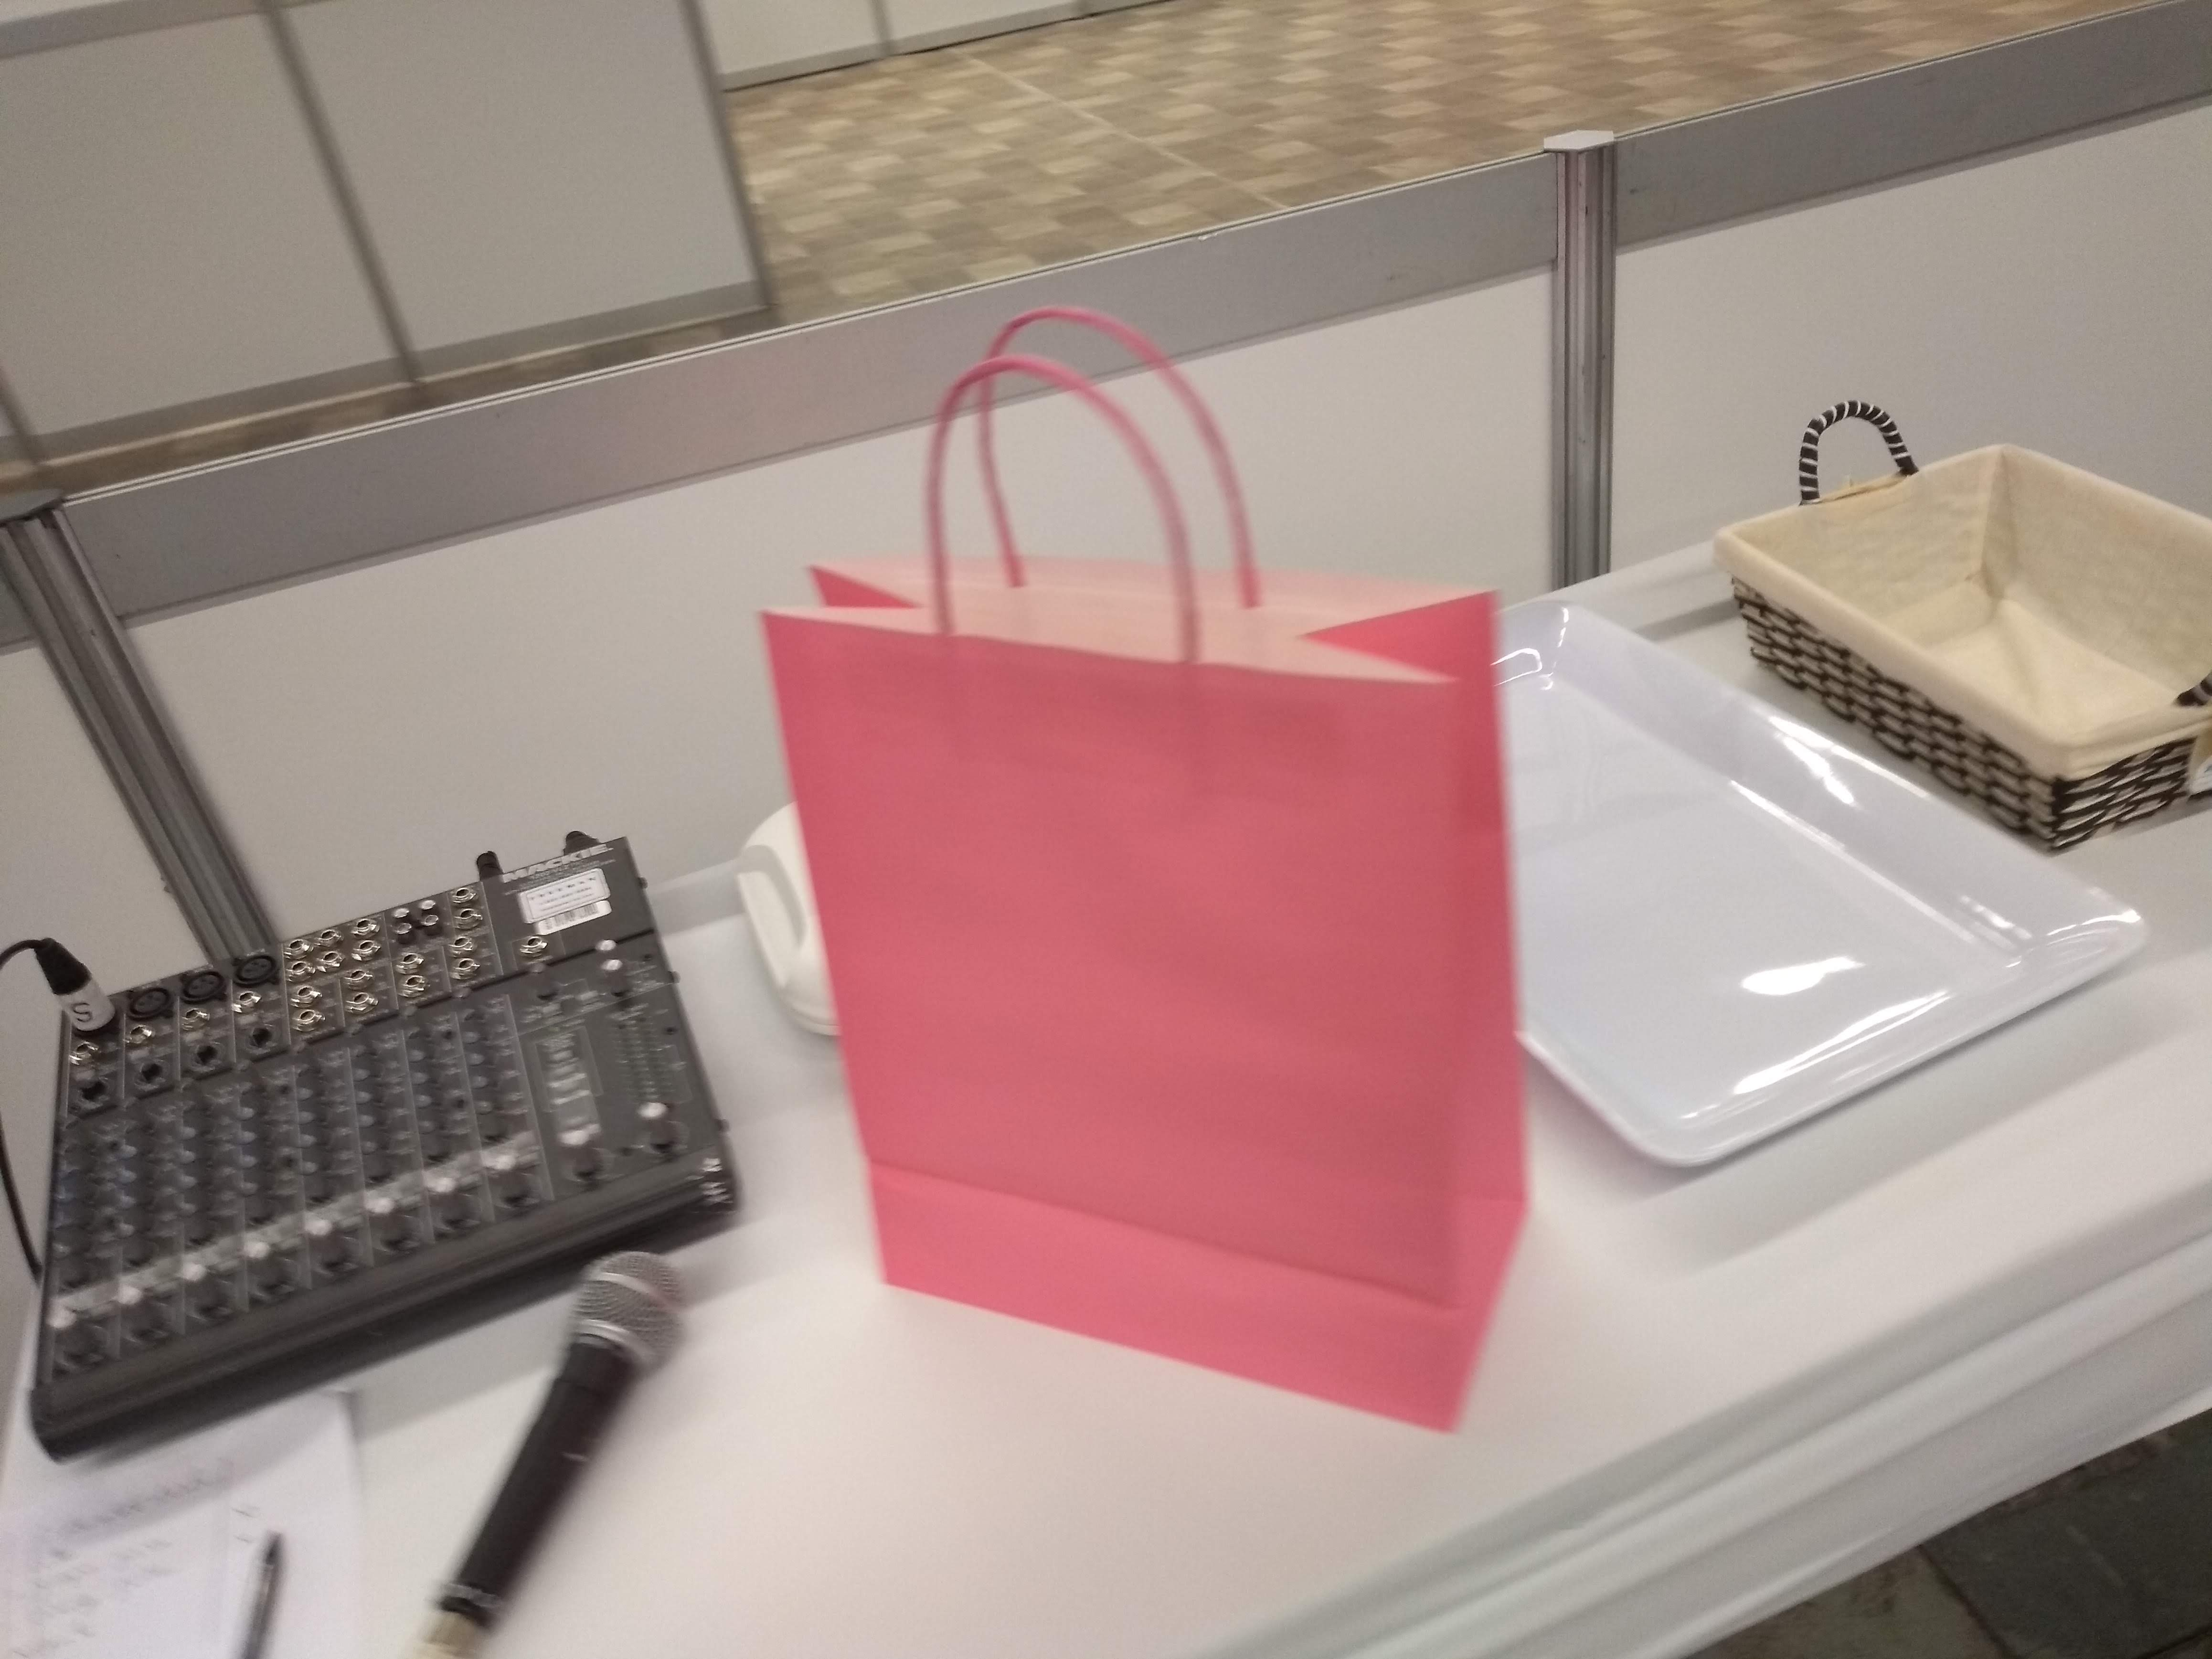basket: (1714, 397, 2212, 850)
help_me_carry_opl: (759, 298, 1548, 1464)
tray: (1474, 601, 2165, 1175)
